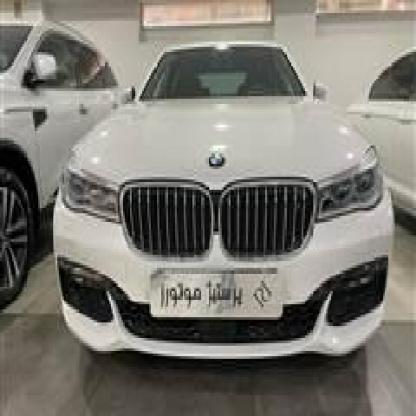Car: (66, 24, 400, 380), (0, 8, 123, 294), (350, 55, 416, 213)
